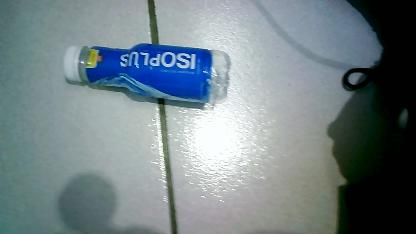Plastic Bottle: (58, 39, 234, 111)
